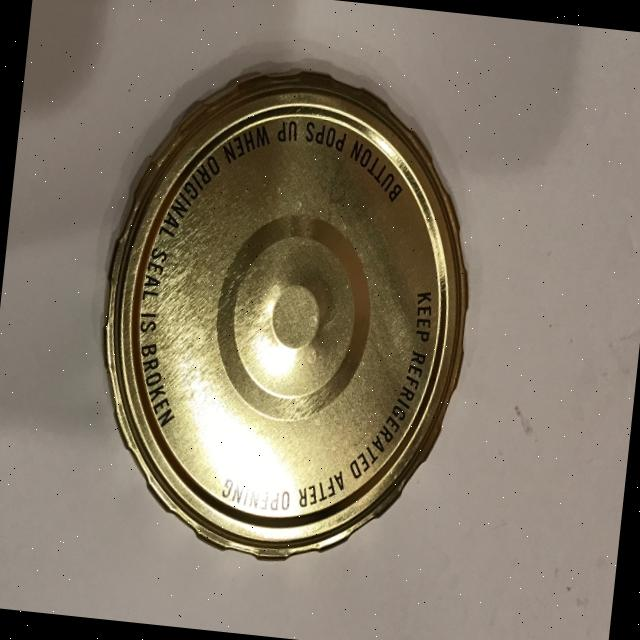metal: (79, 50, 492, 579)
